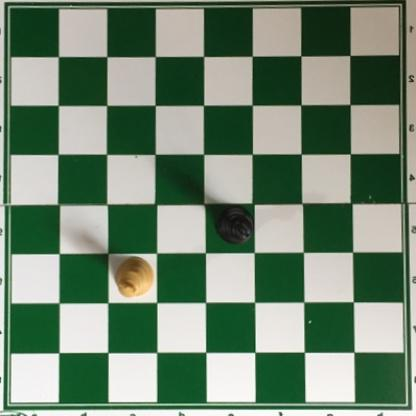black-king: (215, 206, 254, 246)
white-king: (114, 257, 153, 299)
